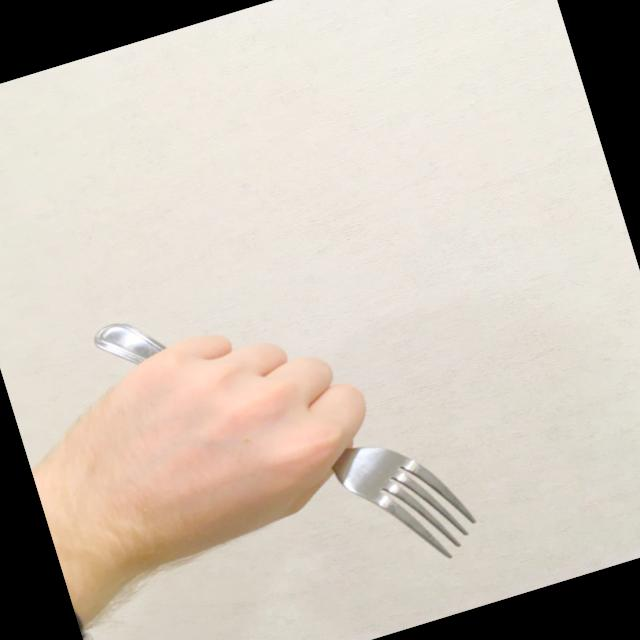fork: (89, 236, 485, 640)
